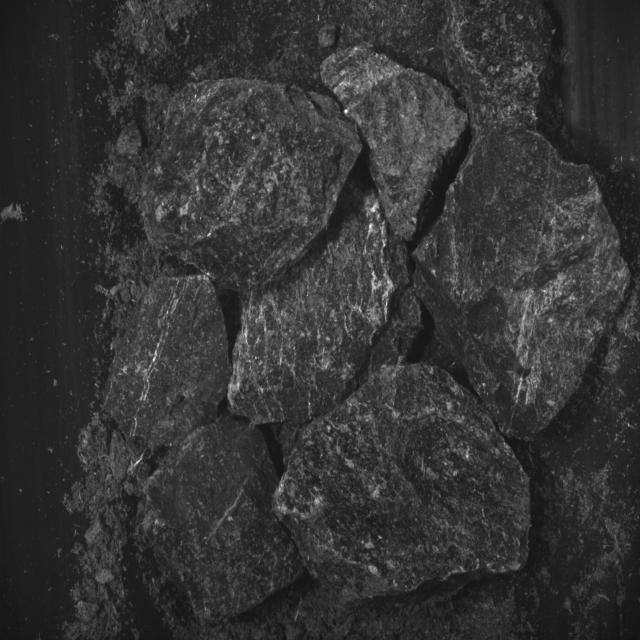Stones: (415, 131, 630, 439), (275, 365, 531, 599), (142, 80, 362, 292), (229, 185, 410, 425), (145, 417, 304, 623), (321, 45, 469, 241), (105, 276, 232, 449), (444, 1, 552, 135), (360, 286, 425, 384)
